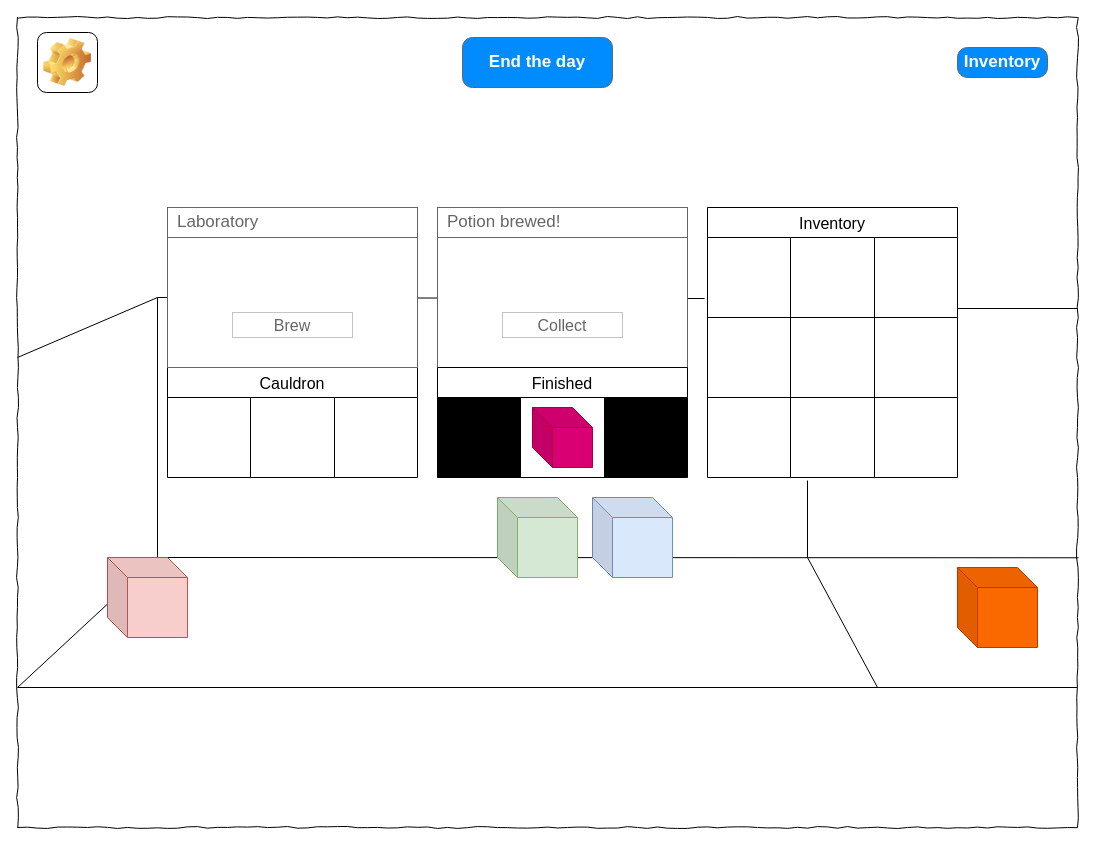
This 1098x845 diagram has some shape labels left out. The shapes that lost their labels are listed below. From the top down, each one's centre as x and y in pixels, then its label:
At [292,287]: "Combine 3 ingredients in the cauldron to create a potion.".
At [562,287]: "You brewed a [NAME] potion.".
